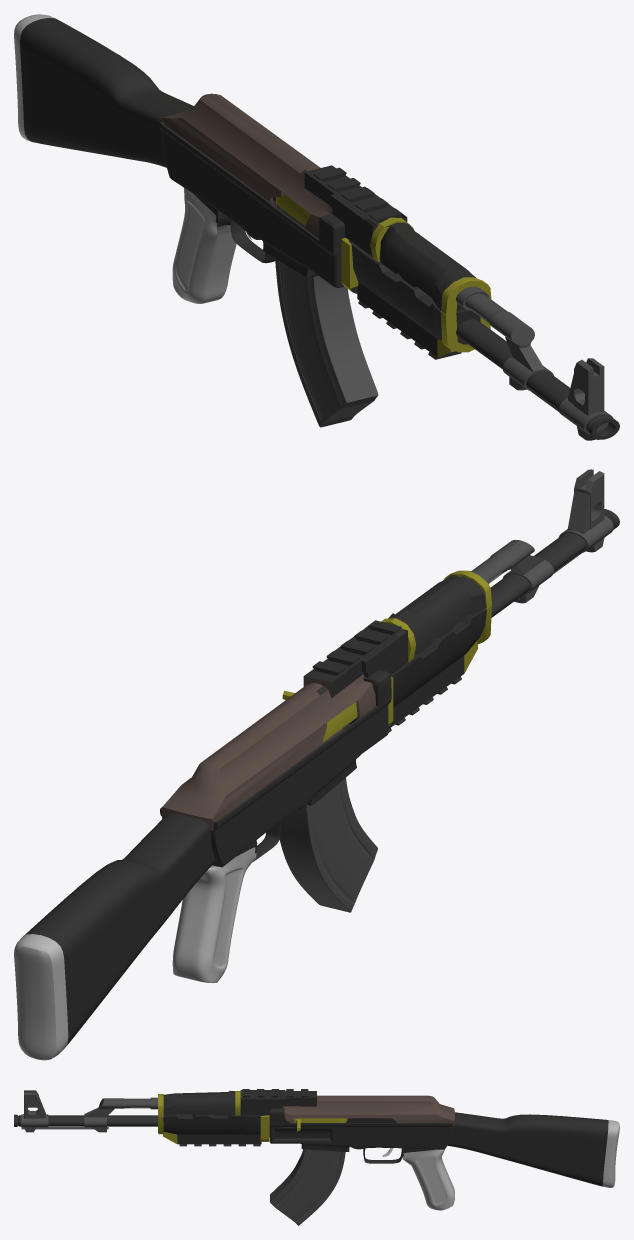
File: AssaultRifle.fbx
The picture shows the model from 3 angles, top to bottom: view 1: azimuth 30°, elevation 25°; view 2: azimuth 150°, elevation 25°; view 3: azimuth 270°, elevation 25°; orthographic projection. The views are drawn at different scales.
Parts seen in each view (by area): view 1: Body, GunTopCover, Clip; view 2: Body, GunTopCover, Clip; view 3: Body, GunTopCover, Clip, Reload.
Part boxes in pixels (x1=…): Body: x1=14, y1=14, x2=619, y2=440; GunTopCover: x1=163, y1=93, x2=403, y2=238; Clip: x1=275, y1=205, x2=378, y2=427; Body: x1=14, y1=469, x2=619, y2=1060; GunTopCover: x1=162, y1=620, x2=403, y2=830; Clip: x1=279, y1=728, x2=377, y2=912; Body: x1=14, y1=1090, x2=619, y2=1210; GunTopCover: x1=241, y1=1089, x2=454, y2=1127; Clip: x1=270, y1=1122, x2=346, y2=1225; Reload: x1=293, y1=1118, x2=347, y2=1131.
Size of the model in its own units: 0.1154 by 0.332 by 1.4.
